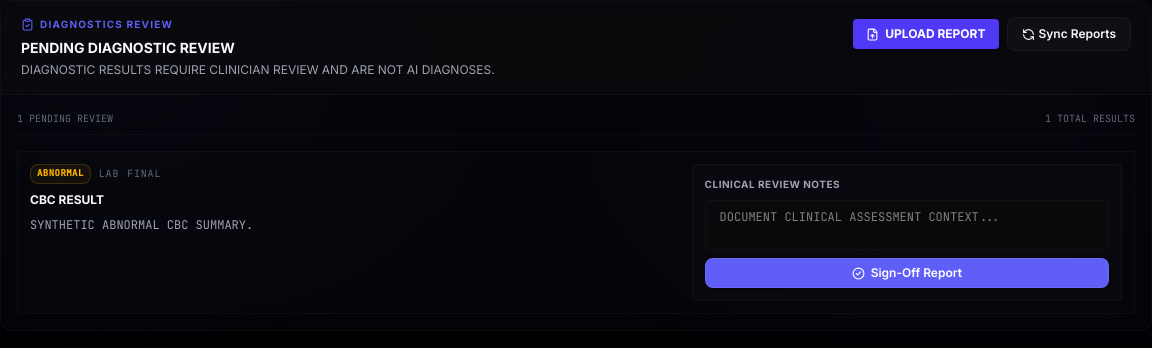
Test: PatientDiagnosticsReview › lets assigned doctors review pending diagnostic results with a note
The image size is (1152, 348).
Expected: the heading "CBC Result" is shown, [30, 192, 104, 206]
Type "Reviewed with patient and follow-up scheduled." into the text box named "Review note for CBC Result".
click(907, 225); type("Reviewed with patient and follow-up scheduled.")  # box [705, 200, 1109, 250]
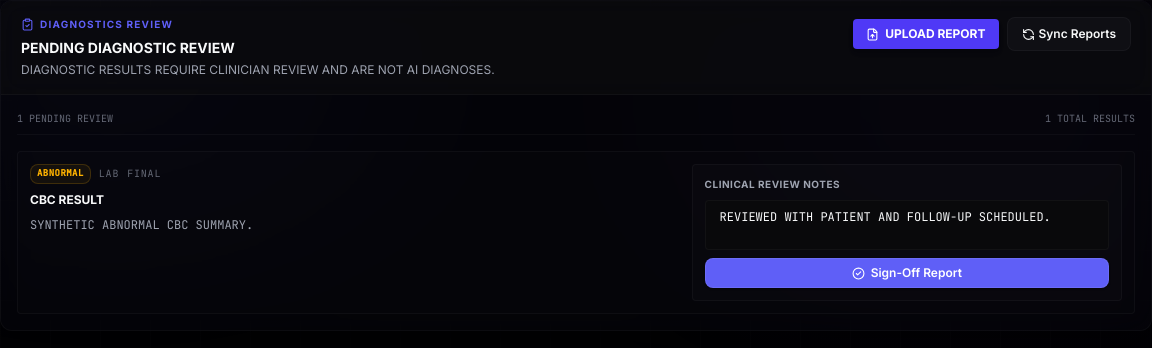
Click the button with aria-label "Mark CBC Result as reviewed".
click(907, 273)  # box [705, 258, 1109, 288]
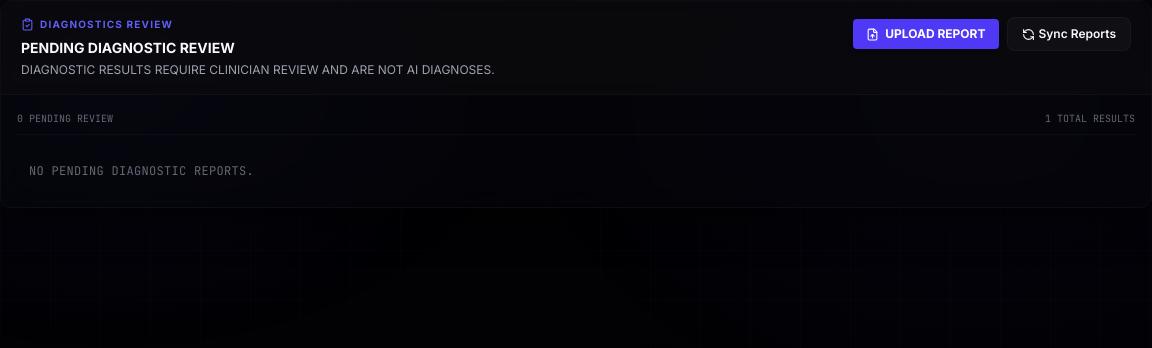
Result: the text "No pending diagnostic reports." is shown at [29, 163, 254, 179]
